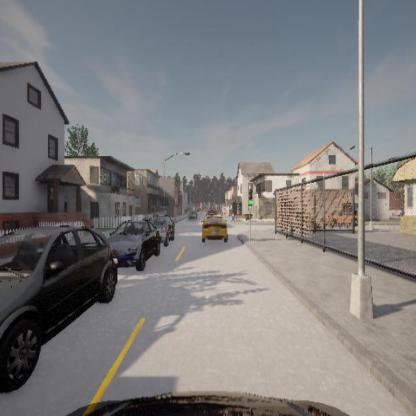traffic_light_green: (248, 186, 254, 206)
vehicle: (0, 228, 115, 329), (104, 218, 159, 268), (148, 214, 176, 246), (201, 213, 228, 245)
